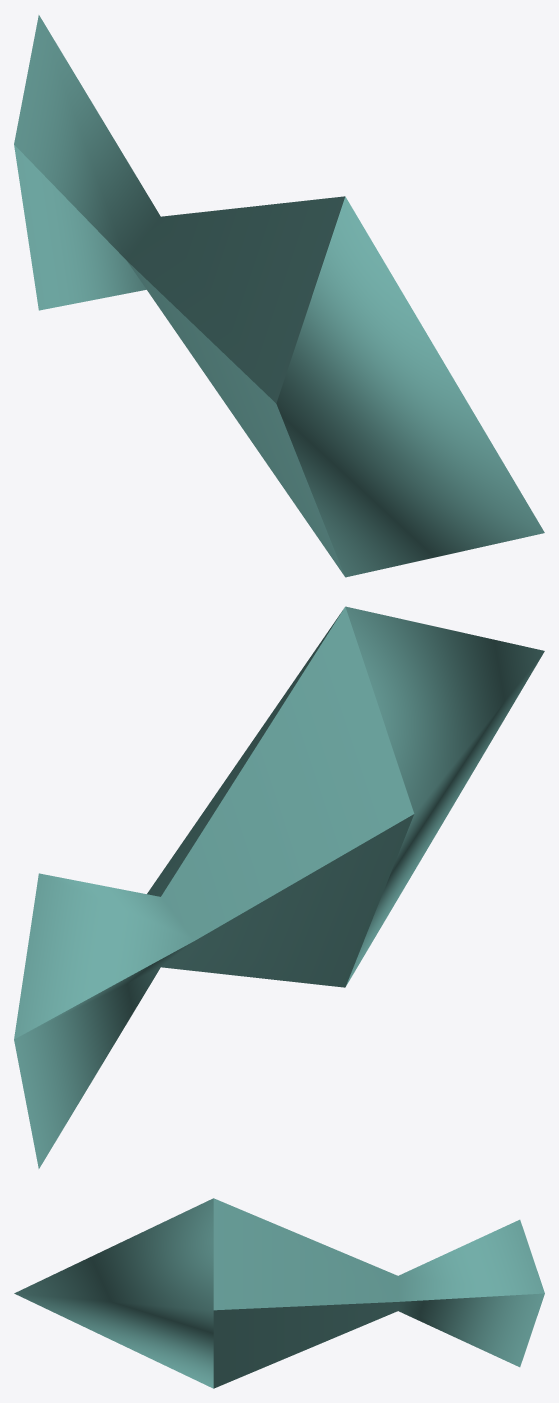
Rendered from Fish.fbx.
3 views of the same model, one above another, from view 1: azimuth 30°, elevation 25°; view 2: azimuth 150°, elevation 25°; view 3: azimuth 270°, elevation 25° (orthographic). The views are drawn at different scales.
Parts seen in each view (by area): view 1: Fish; view 2: Fish; view 3: Fish.
Boxes of the visible parts, x1,y1,x2,y2 form: Fish: (14, 15, 544, 577); Fish: (14, 606, 544, 1168); Fish: (14, 1198, 544, 1388).
Bounding box in the file's own units: 0.3787 × 1 × 2.52.
